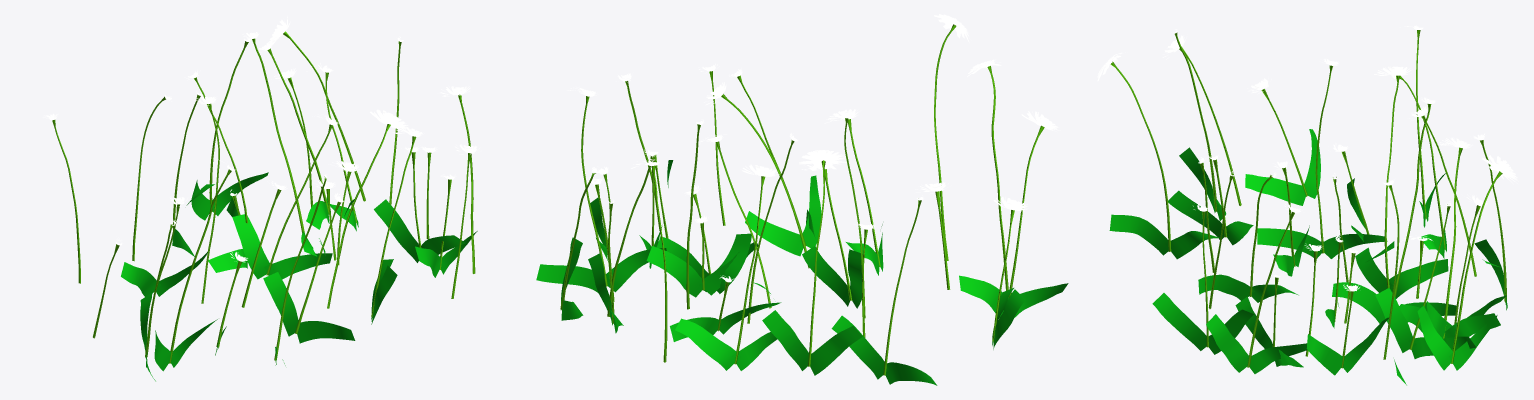
Rendered from dandelions.glb.
The picture shows the model from 3 angles, left to right: view 1: azimuth 30°, elevation 25°; view 2: azimuth 150°, elevation 25°; view 3: azimuth 270°, elevation 25°; orthographic projection. The views are drawn at different scales.
Visible parts, largest first — view 1: dandelionYellow1MeshGroup_dandelionYellow1Leaf, dandelionYellow1Main_dandelionYellow1MeshGroup, dandelionYellow1MeshGroup_dandelionYellow1Flower; view 2: dandelionYellow1MeshGroup_dandelionYellow1Leaf, dandelionYellow1Main_dandelionYellow1MeshGroup, dandelionYellow1MeshGroup_dandelionYellow1Flower; view 3: dandelionYellow1MeshGroup_dandelionYellow1Leaf, dandelionYellow1Main_dandelionYellow1MeshGroup, dandelionYellow1MeshGroup_dandelionYellow1Flower.
Part boxes in pixels (box(x1,y1,x2,y2)): dandelionYellow1MeshGroup_dandelionYellow1Leaf: box(121, 172, 477, 381); dandelionYellow1Main_dandelionYellow1MeshGroup: box(52, 31, 475, 363); dandelionYellow1MeshGroup_dandelionYellow1Flower: box(43, 16, 479, 262); dandelionYellow1MeshGroup_dandelionYellow1Leaf: box(536, 160, 1068, 385); dandelionYellow1Main_dandelionYellow1MeshGroup: box(560, 24, 1044, 375); dandelionYellow1MeshGroup_dandelionYellow1Flower: box(567, 14, 1060, 282); dandelionYellow1MeshGroup_dandelionYellow1Leaf: box(1109, 129, 1507, 385); dandelionYellow1Main_dandelionYellow1MeshGroup: box(1110, 30, 1506, 368); dandelionYellow1MeshGroup_dandelionYellow1Flower: box(1097, 25, 1518, 291).
Size of the model in its own units: 3.91 by 1.94 by 3.36.
